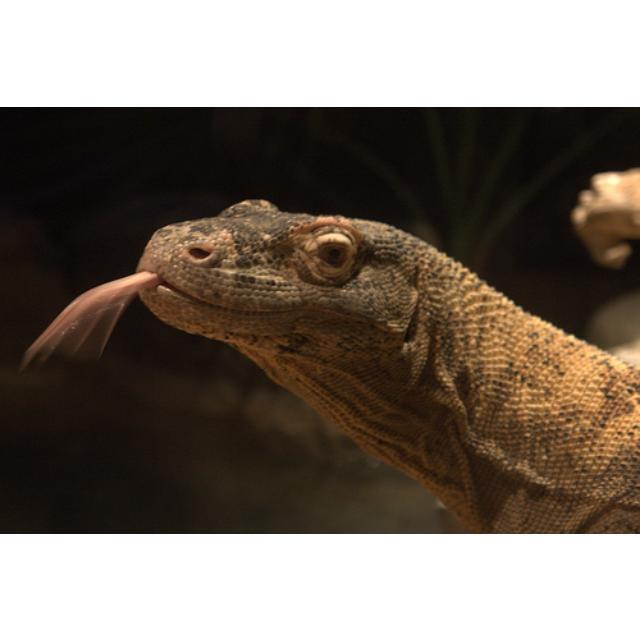KomodoDragon: (21, 195, 637, 531)
